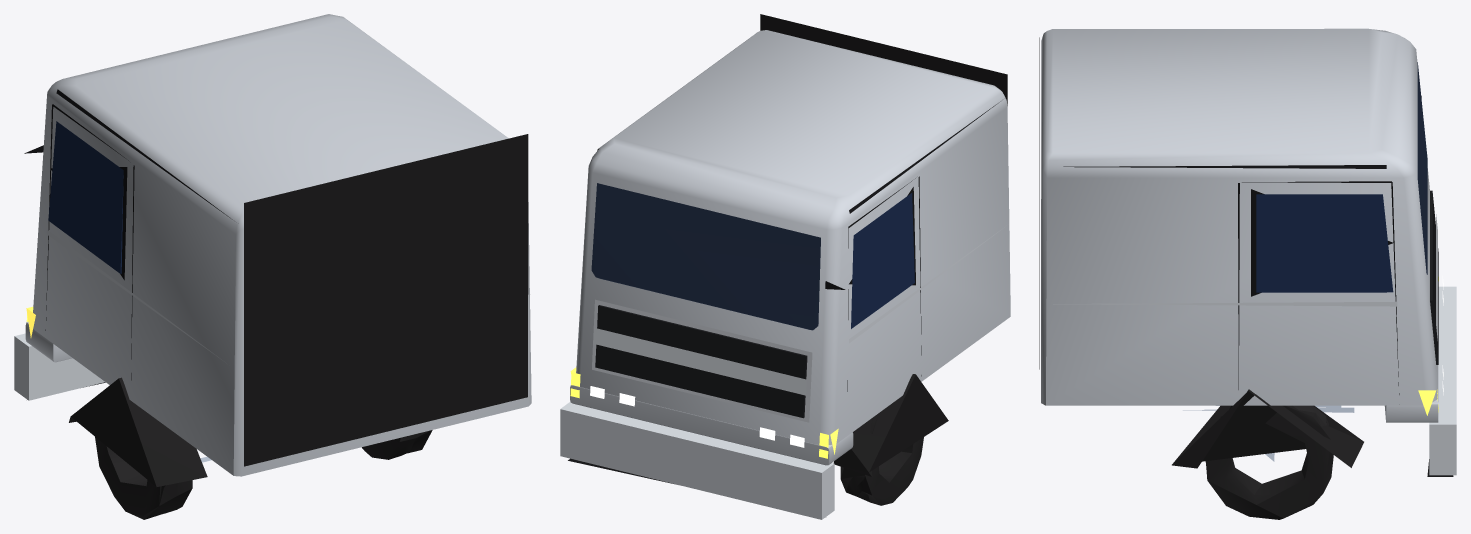
File: cab_flat_wide_lod2.glb
3 views of the same model, side by side, from view 1: azimuth 30°, elevation 25°; view 2: azimuth 150°, elevation 25°; view 3: azimuth 270°, elevation 25° (orthographic). The views are drawn at different scales.
Visible parts, largest first — view 1: lod2_paint_white_panel, lod2_plastic_trim, lod2_glass, lod2_rubber_tire, lod2_chrome, lod2_plastic_black; view 2: lod2_paint_white_panel, lod2_chrome, lod2_glass_wind, lod2_vent_slots, lod2_plastic_trim, lod2_glass, lod2_rubber_tire, lod2_plastic_black, lod2_lamp_white, lod2_lamp_amber; view 3: lod2_paint_white_panel, lod2_glass, lod2_plastic_trim, lod2_rubber_tire, lod2_chrome, lod2_plastic_black, lod2_glass_wind, lod2_vent_slots.
Part boxes in pixels (x1,y1,x2,y2): lod2_paint_white_panel: (25,14,531,476); lod2_plastic_trim: (69,134,528,486); lod2_glass: (48,121,123,273); lod2_rubber_tire: (95,430,432,519); lod2_chrome: (14,229,226,400); lod2_plastic_black: (24,89,232,387); lod2_paint_white_panel: (570,30,1010,465); lod2_chrome: (560,227,1004,519); lod2_glass_wind: (591,183,820,330); lod2_vent_slots: (595,305,807,418); lod2_plastic_trim: (760,14,1007,476); lod2_glass: (851,193,914,328); lod2_rubber_tire: (840,413,923,505); lod2_plastic_black: (568,101,1000,484); lod2_lamp_white: (590,386,804,447); lod2_lamp_amber: (570,367,838,458); lod2_paint_white_panel: (1041,28,1438,422); lod2_glass: (1256,194,1393,292); lod2_plastic_trim: (1039,37,1363,468); lod2_rubber_tire: (1205,405,1333,519); lod2_chrome: (1053,187,1456,475); lod2_plastic_black: (1063,96,1453,476); lod2_glass_wind: (1417,62,1427,274); lod2_vent_slots: (1430,190,1438,364).
Bounding box in the file's own units: 2.59 × 3.2 × 3.2.
11 materials, 5 textured.
